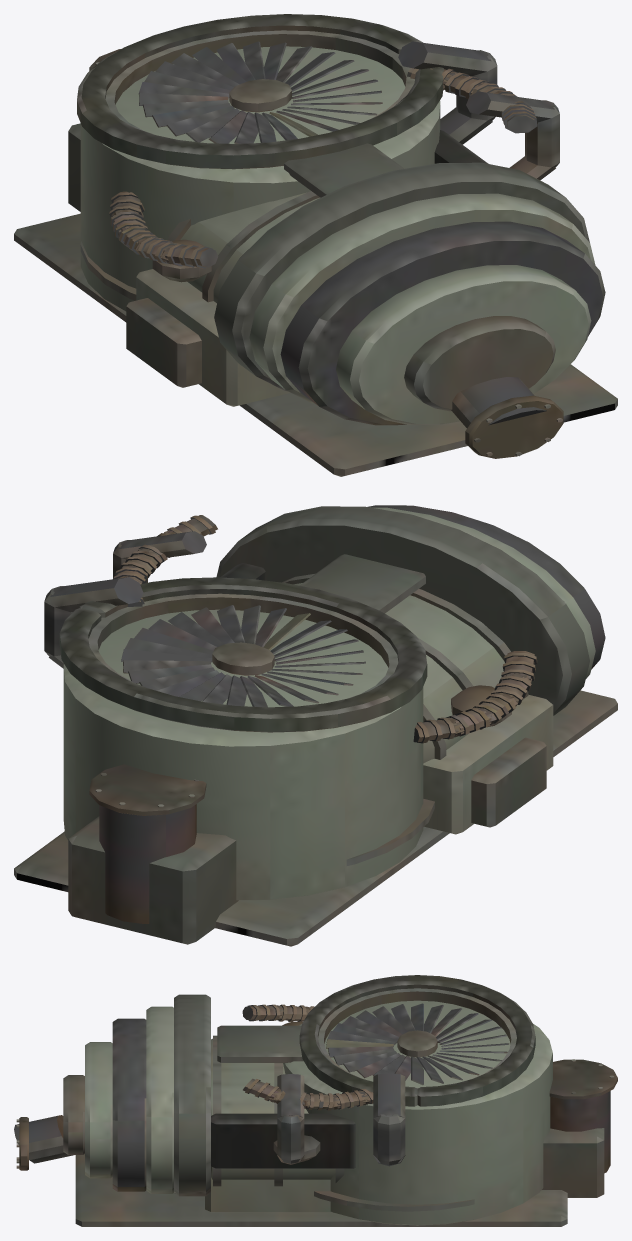
The model's file is steam-turbine.glb.
3 renders of one model, top to bottom at view 1: azimuth 30°, elevation 25°; view 2: azimuth 150°, elevation 25°; view 3: azimuth 270°, elevation 25°, orthographic. The views are drawn at different scales.
Visible parts, largest first — view 1: body, anim_spin_turbine_fan; view 2: body, anim_spin_turbine_fan; view 3: body, anim_spin_turbine_fan.
Part boxes in pixels (x1,y1,x2,y2): body: (14, 14, 617, 476); anim_spin_turbine_fan: (138, 41, 382, 143); body: (14, 505, 617, 946); anim_spin_turbine_fan: (121, 605, 365, 707); body: (14, 975, 617, 1226); anim_spin_turbine_fan: (326, 1003, 509, 1085).
Bounding box in the file's own units: 2.94 × 1.43 × 4.91.
1 material, 1 textured.
